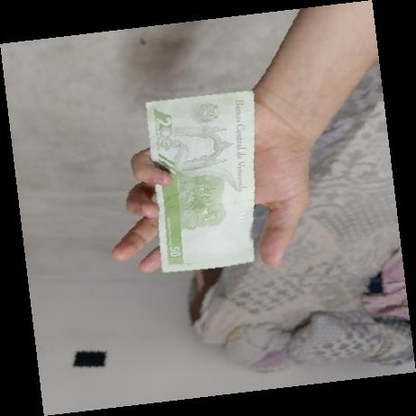fifty-back-vef: (145, 91, 255, 273)
